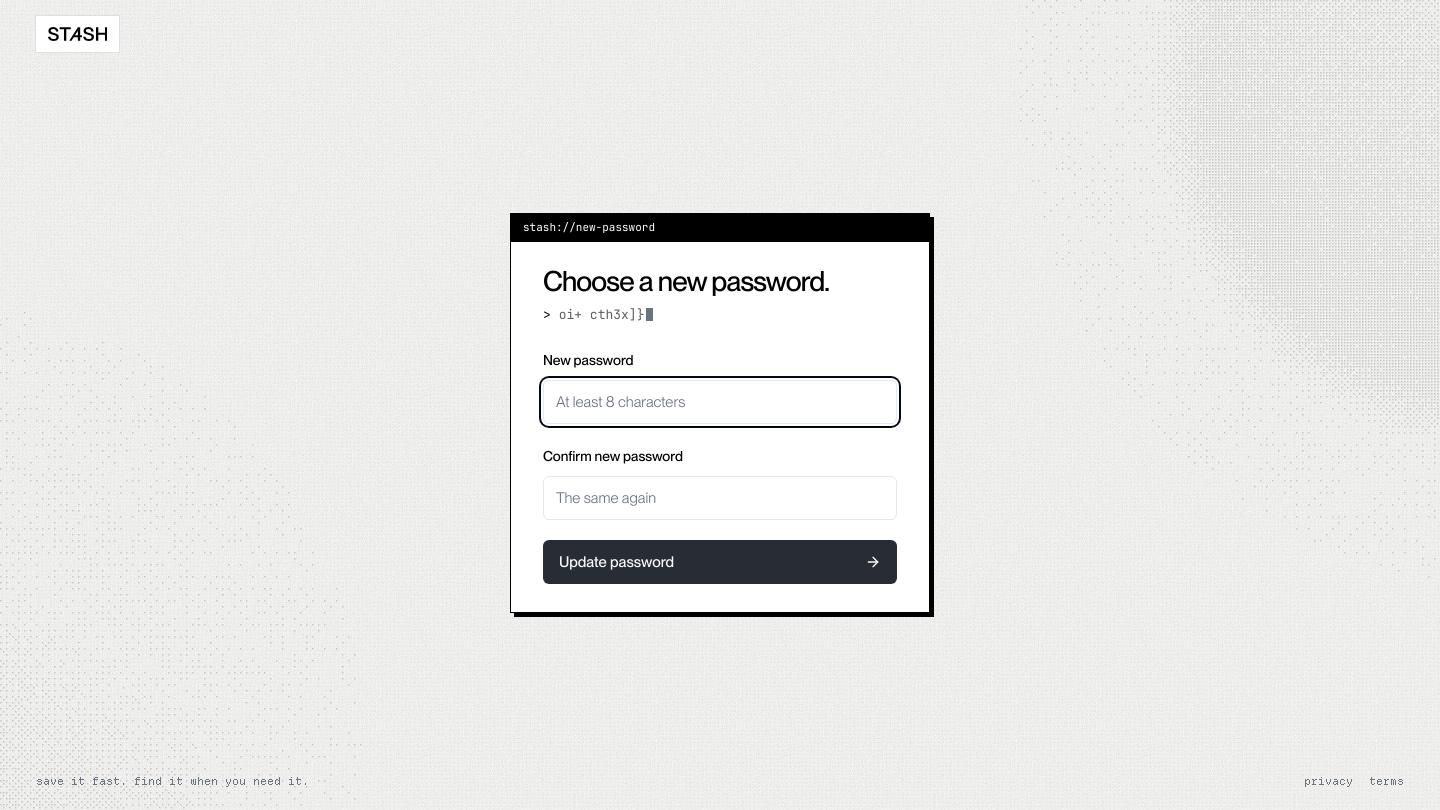
Test: ResetPassword › rejects passwords under 8 characters
Expected: the button "Update password" is shown, top-left (543, 540), bottom-right (897, 584)
In the password field labelled "New password": (720,402) top-left (543, 380), bottom-right (897, 424), type "short"
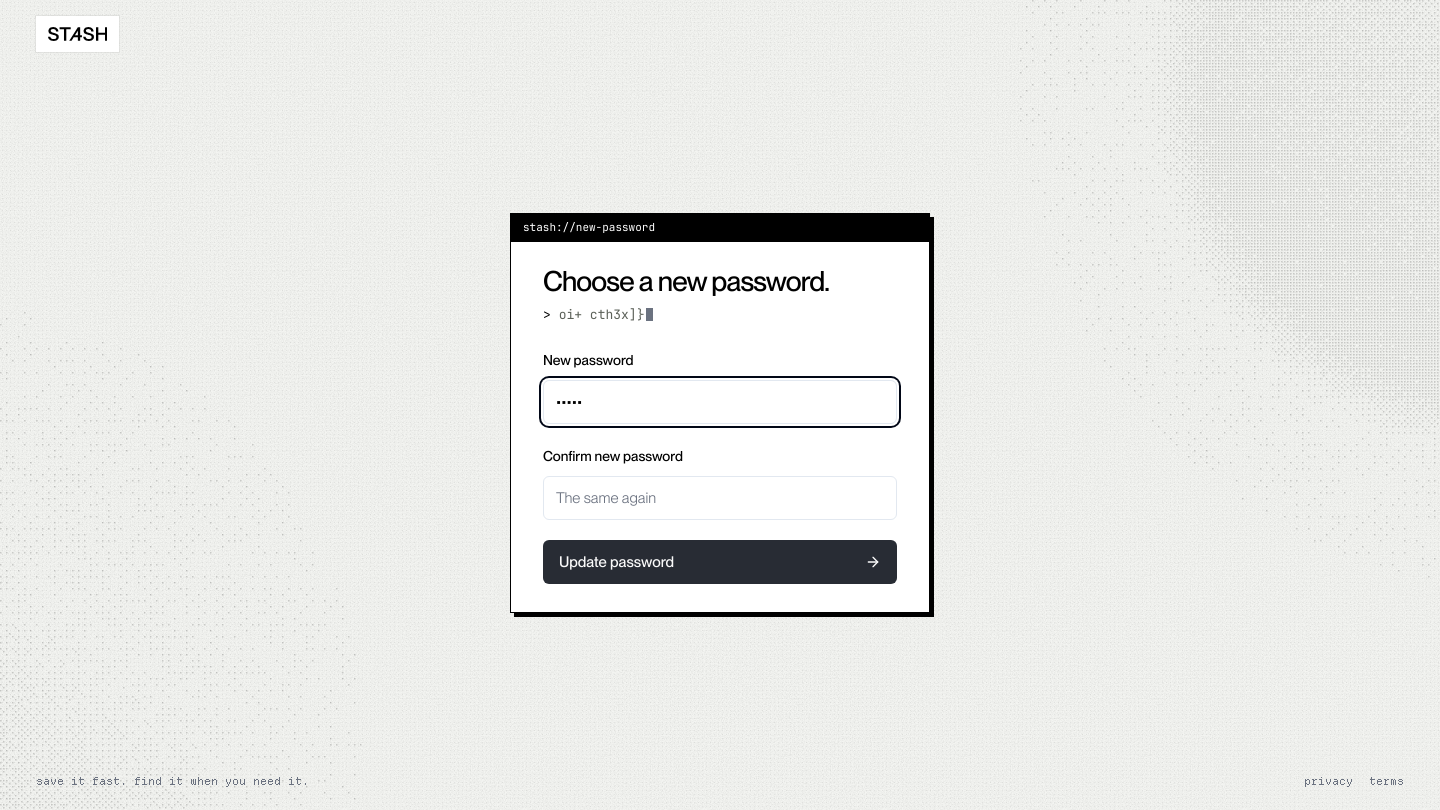
In the password field labelled "Confirm new password": (720,498) top-left (543, 476), bottom-right (897, 520), type "short"
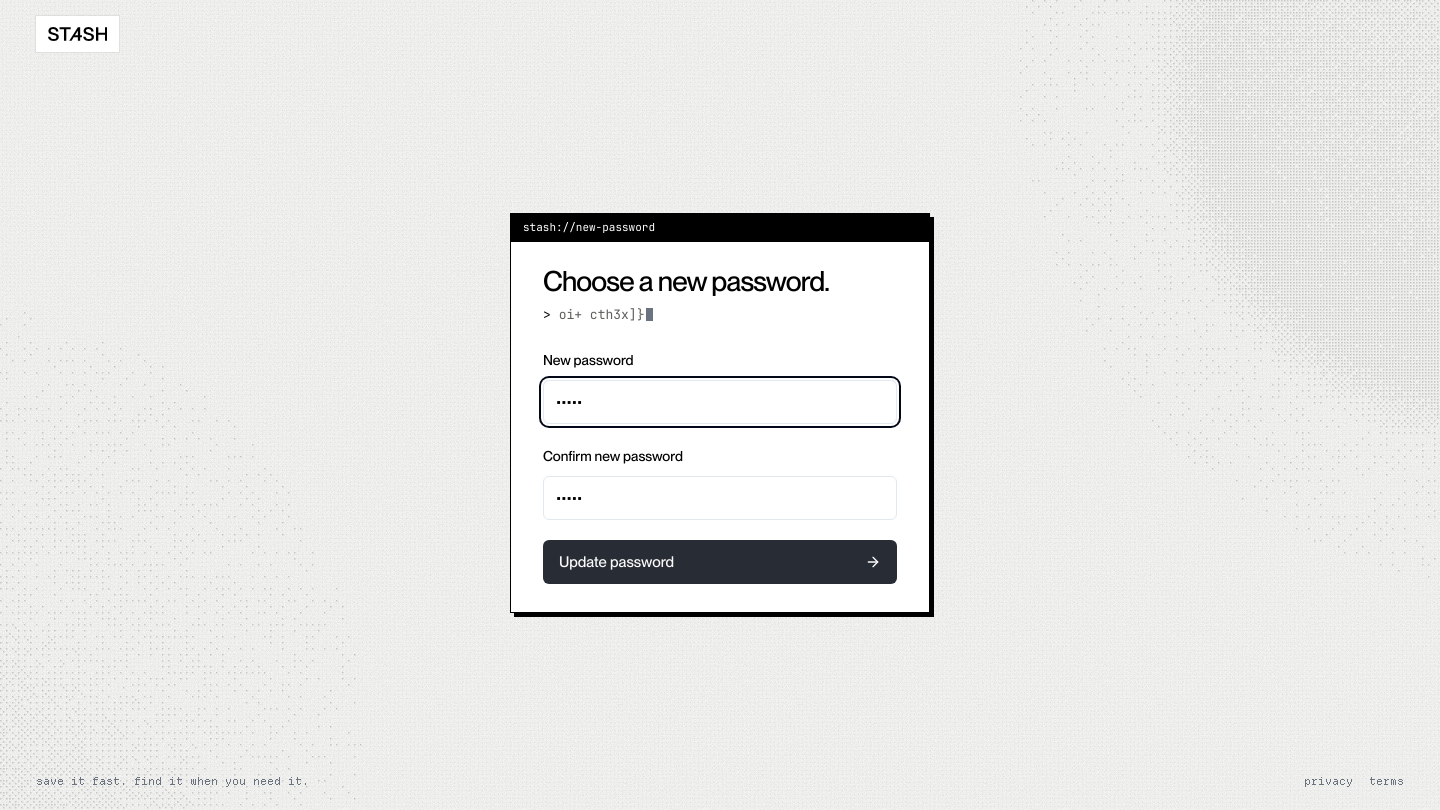
Click the button "Update password": (617,562) top-left (543, 540), bottom-right (897, 584)
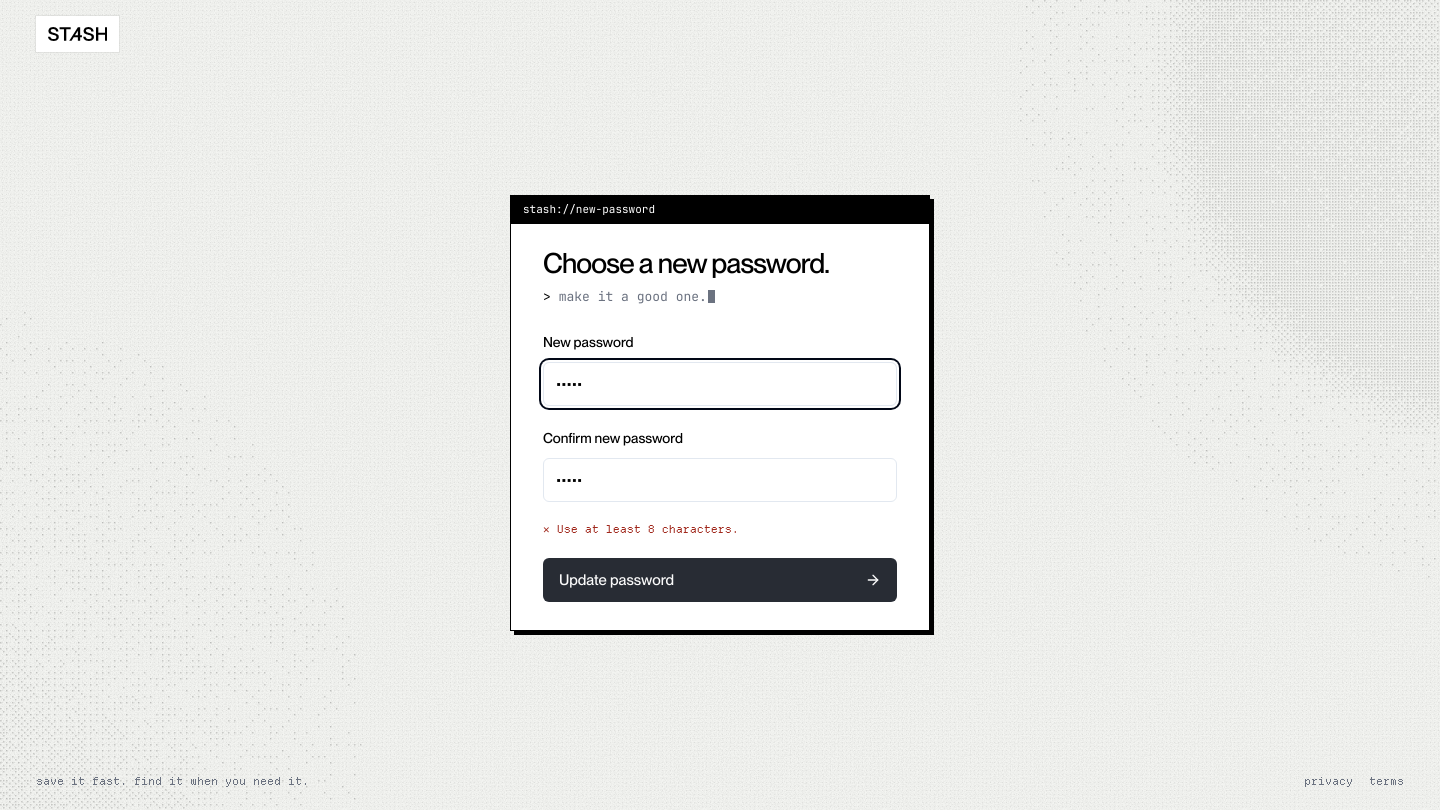
Now the text "✕ Use at least 8 characters." is shown, box top-left (543, 522), bottom-right (739, 536)
